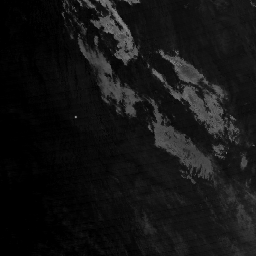Target: (73, 114, 78, 119)
